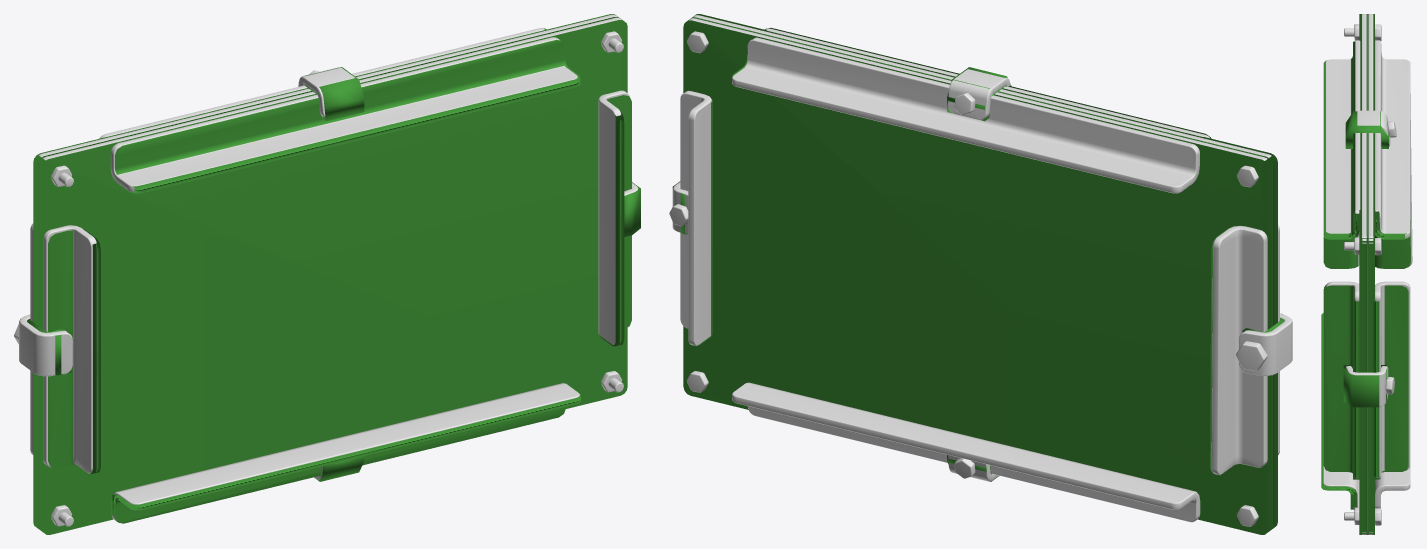
Rendered from DuctDetail_01_Mesh.fbx.
The picture shows the model from 3 angles, left to right: view 1: azimuth 30°, elevation 25°; view 2: azimuth 150°, elevation 25°; view 3: azimuth 270°, elevation 25°; orthographic projection. The views are drawn at different scales.
Parts seen in each view (by area): view 1: Duct_FakeClamp_01_Col, Duct_FakeClamp_01_LOD0; view 2: Duct_FakeClamp_01_Col, Duct_FakeClamp_01_LOD0; view 3: Duct_FakeClamp_01_Col, Duct_FakeClamp_01_LOD0.
Boxes of the visible parts, left/top/right/bottom form: Duct_FakeClamp_01_Col: left=27, top=14, right=640, bottom=534; Duct_FakeClamp_01_LOD0: left=14, top=14, right=638, bottom=526; Duct_FakeClamp_01_Col: left=672, top=14, right=1284, bottom=534; Duct_FakeClamp_01_LOD0: left=669, top=15, right=1292, bottom=526; Duct_FakeClamp_01_Col: left=1321, top=14, right=1410, bottom=534; Duct_FakeClamp_01_LOD0: left=1323, top=14, right=1412, bottom=534.
Size of what is drawn, in the model's own units: 81.82 by 50.91 by 13.42.
